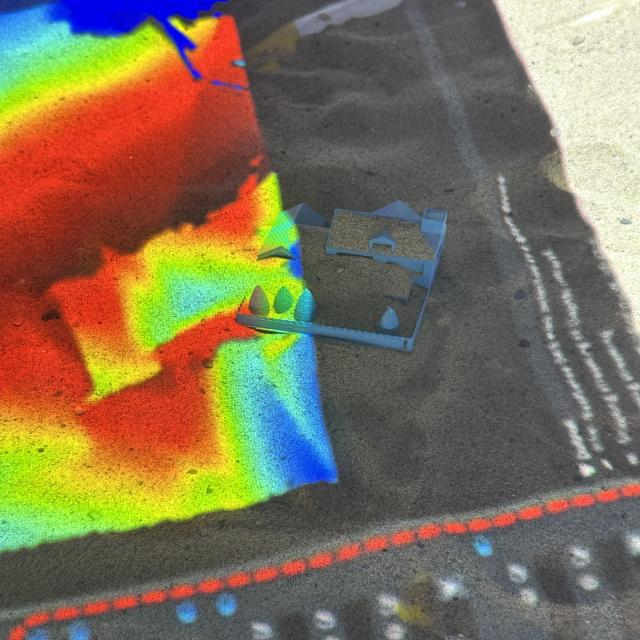house: (234, 198, 448, 352)
